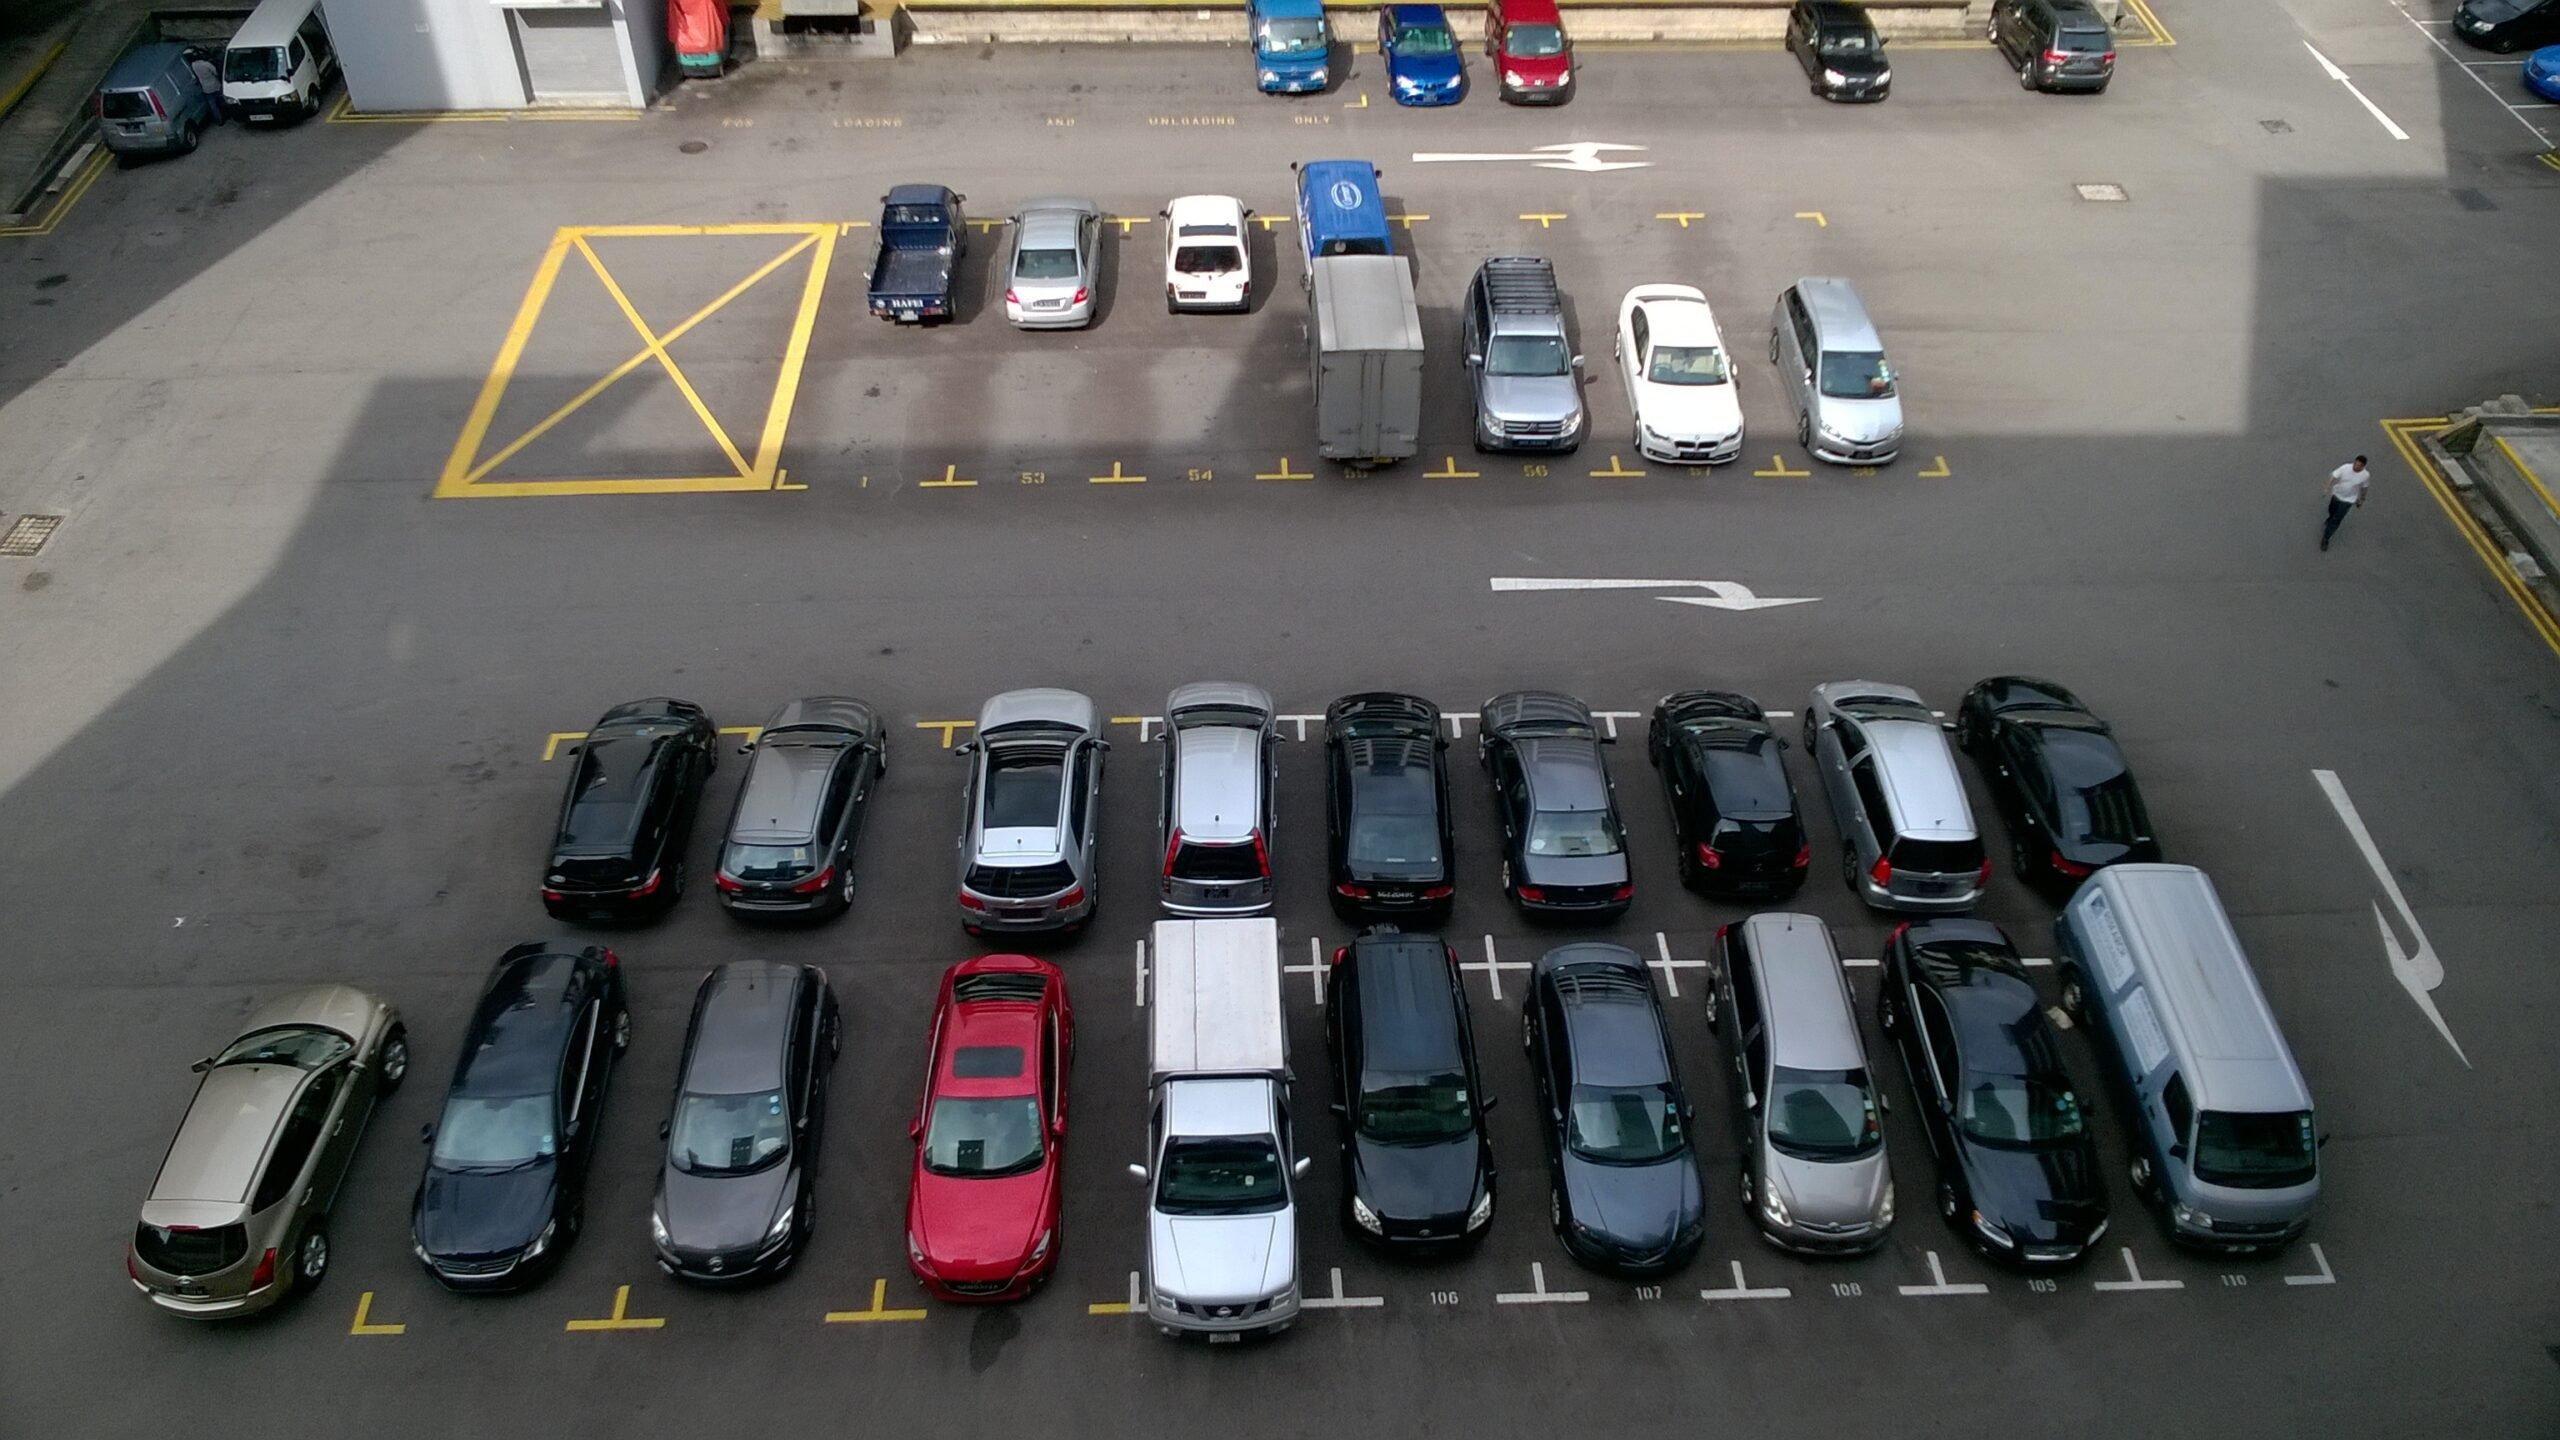empty: (2066, 847, 2367, 1273), (1094, 911, 1326, 1352), (369, 967, 621, 1298), (111, 1009, 357, 1335), (1690, 911, 1902, 1269), (614, 958, 846, 1284), (1512, 927, 1718, 1291), (1310, 930, 1514, 1284), (877, 964, 1087, 1305), (939, 693, 1122, 934), (535, 698, 714, 932), (703, 707, 886, 934), (1134, 691, 1294, 918), (1825, 687, 1980, 920), (1493, 705, 1649, 928), (1447, 257, 1600, 476), (1596, 271, 1755, 478), (1327, 687, 1459, 930), (1769, 280, 1927, 480), (1662, 702, 1806, 904), (851, 192, 985, 336), (192, 9, 343, 127), (979, 209, 1118, 336), (84, 37, 218, 160), (1138, 200, 1269, 322), (1997, 0, 2127, 98), (1377, 18, 1486, 113), (1484, 16, 1588, 113), (1793, 18, 1897, 105), (1234, 21, 1347, 100), (2435, 0, 2560, 56), (665, 2, 753, 81)
occupied: (1125, 336, 1284, 492), (988, 343, 1097, 484), (825, 359, 965, 462), (1417, 195, 1542, 292), (1697, 199, 1832, 285), (1619, 33, 1762, 109), (1554, 207, 1684, 288), (891, 40, 990, 113), (1000, 37, 1094, 102), (1129, 47, 1222, 105), (1908, 51, 1989, 107)
